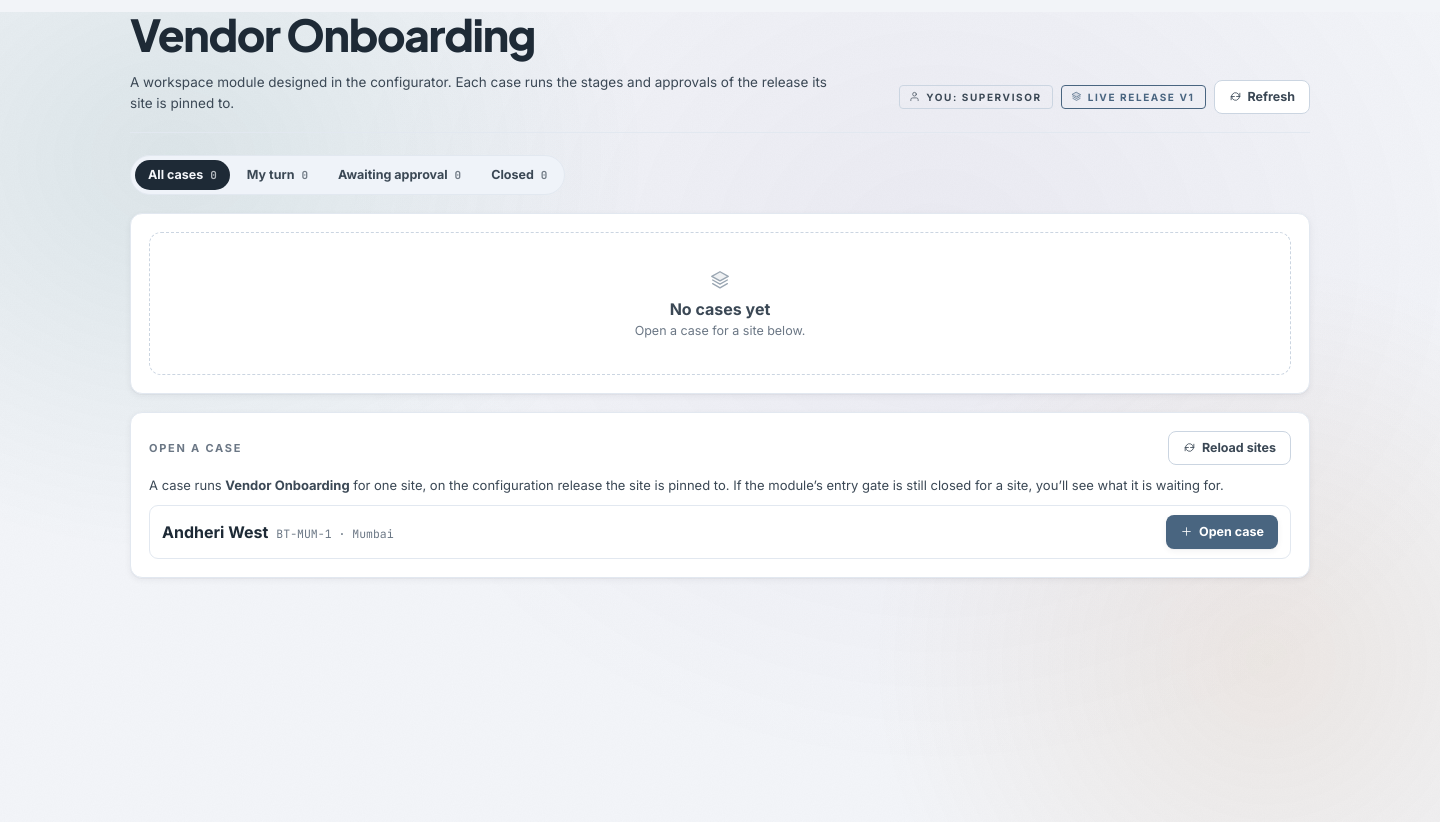
GenericModulePage › opening a case while the entry gate is closed shows the locked screen from gate.conditions
Click the button "Open case" at (1222, 532), box [1166,515,1278,549]
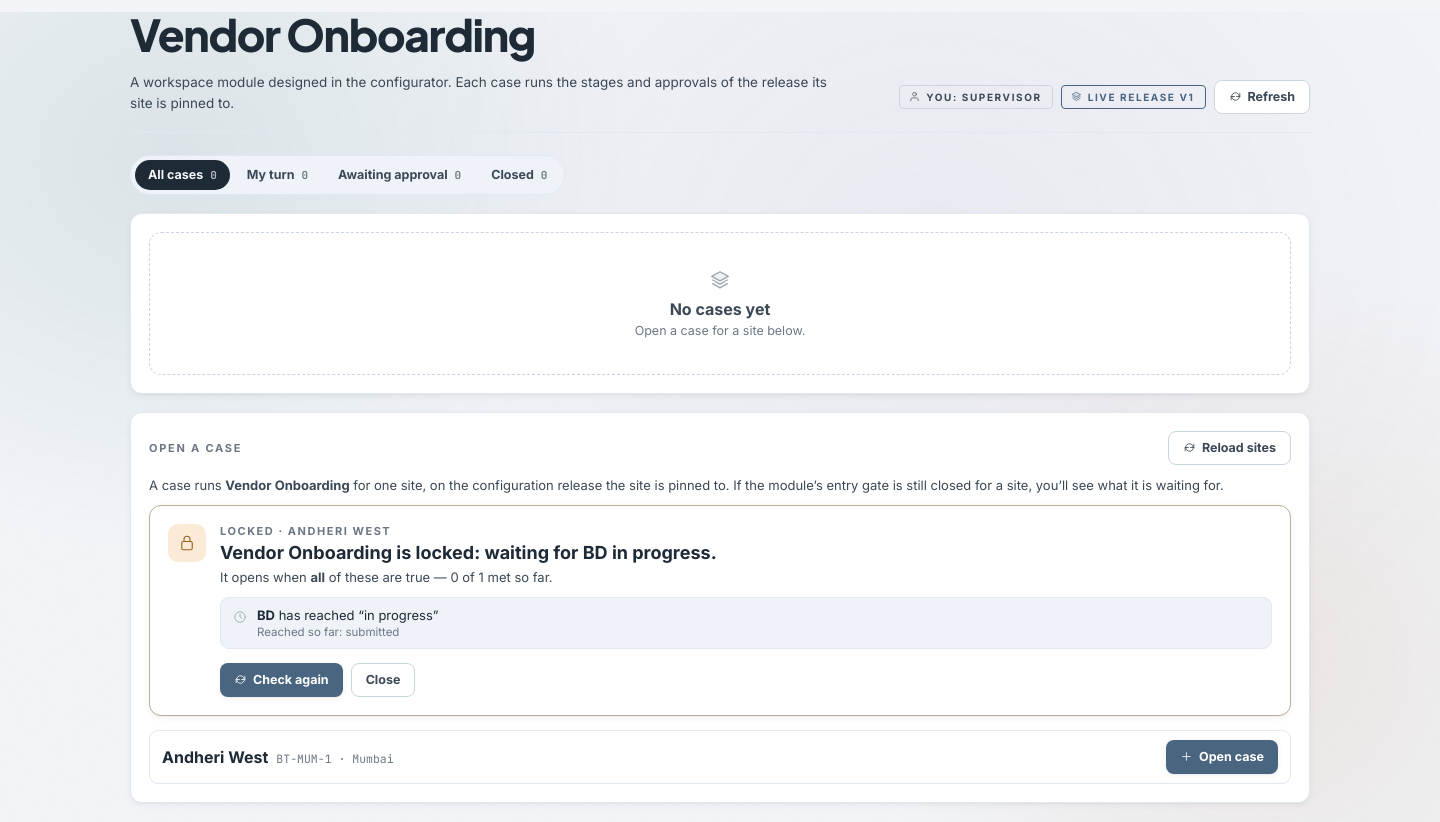
Now the heading "Vendor Onboarding is locked: waiting for BD in progress." is shown, box [220,542,717,563]
Now the list named "gate conditions" shows "BD has reached “in progress”", box [220,597,1272,649]
Now the list named "gate conditions" shows "Reached so far: submitted", box [257,625,399,639]
